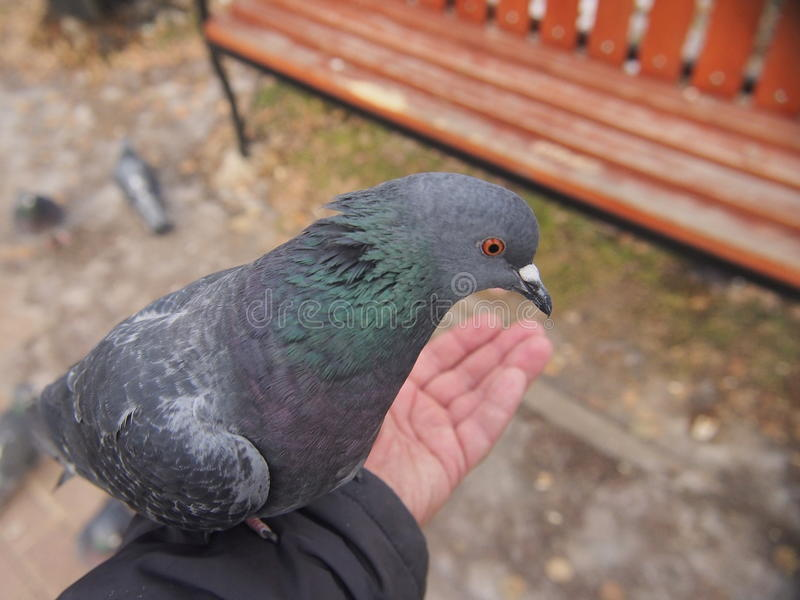Flying Rat: (37, 168, 553, 543)
